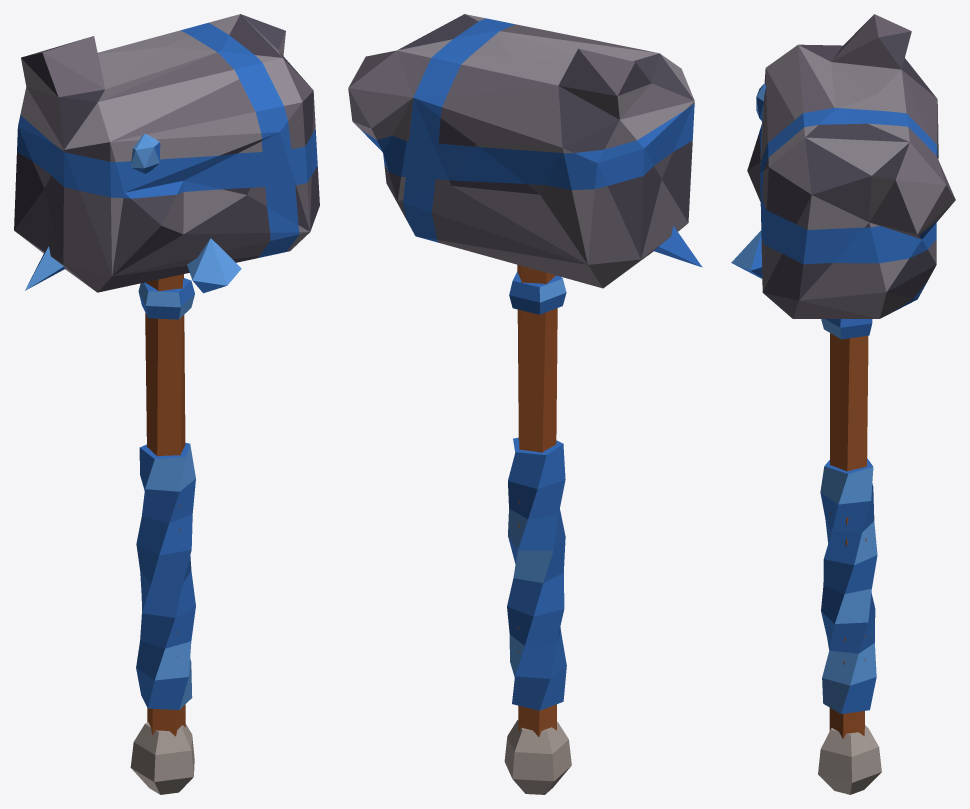
File: hammer.glb
The picture shows the model from 3 angles, left to right: view 1: azimuth 30°, elevation 25°; view 2: azimuth 150°, elevation 25°; view 3: azimuth 270°, elevation 25°; orthographic projection. The views are drawn at different scales.
Parts seen in each view (by area): view 1: hammer; view 2: hammer; view 3: hammer.
Part boxes in pixels (<box>): hammer: <box>14,14,319,794</box>; hammer: <box>348,14,702,794</box>; hammer: <box>731,14,955,794</box>.
Size of the model in its own units: 0.4607 by 1.11 by 0.3129.
